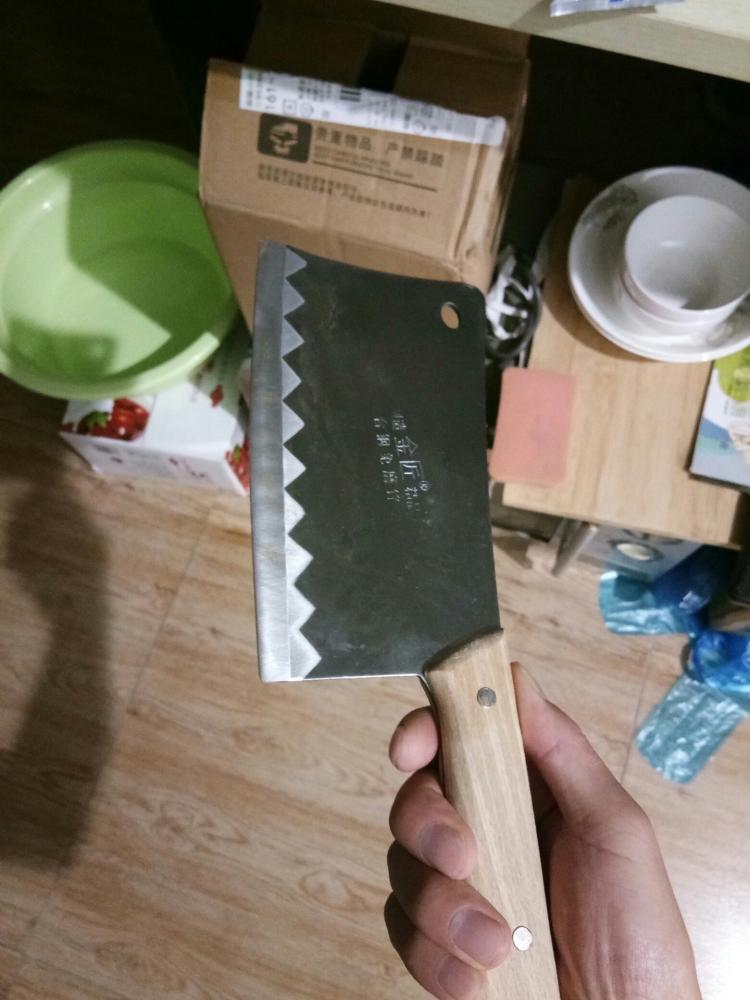knief: (235, 239, 585, 900)
